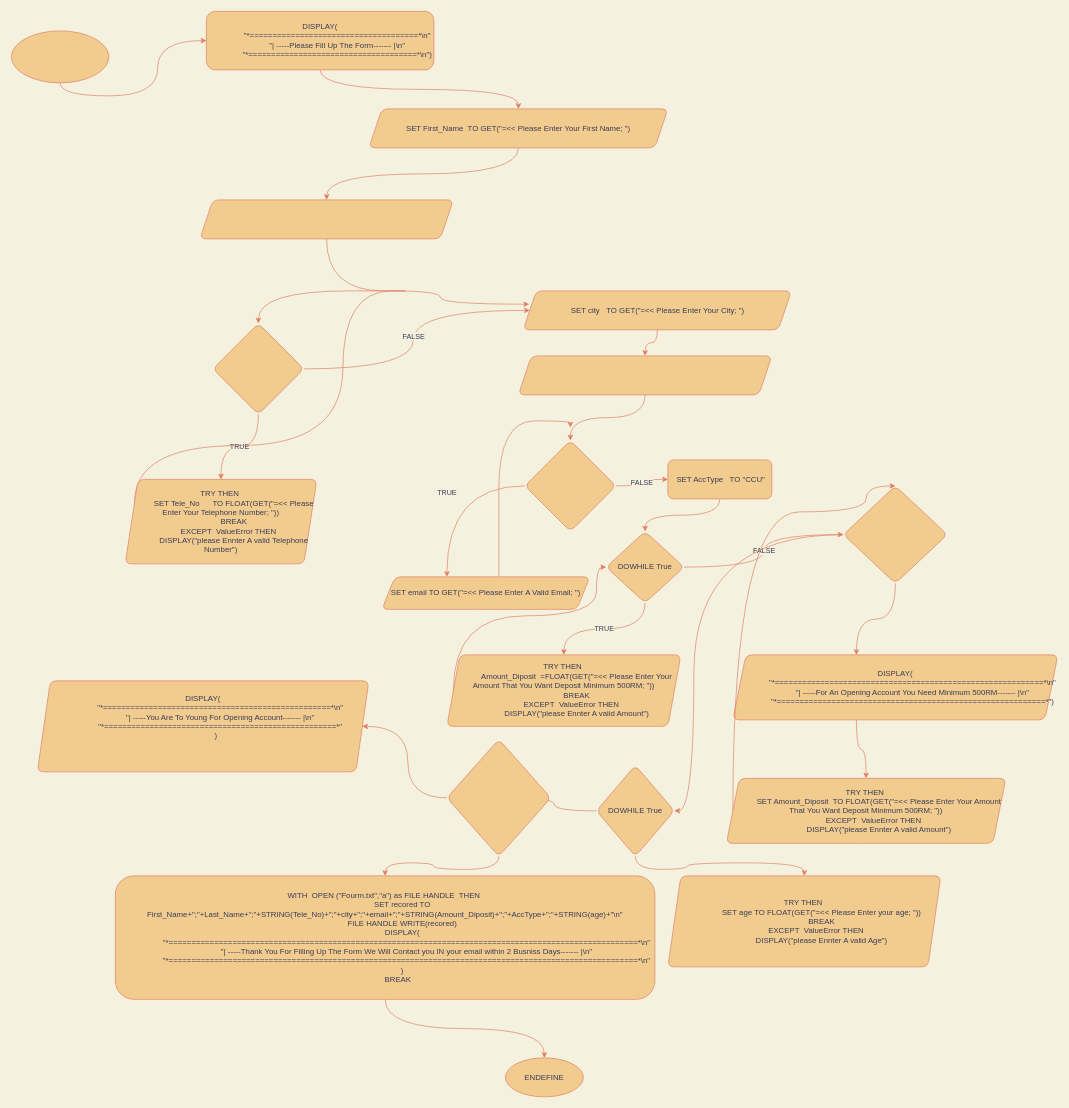
The diagram is 1069 pixels wide and 1108 high, and some of its shapes have lost their labels. Here are the shapes that lost their labels. From the top down, the box of each, then its label:
(11, 30, 109, 83): DEFINE COPenAcc()
(199, 199, 453, 239): SET Last_Name TO GET("=<< Please Enter Your Last Name; ")
(212, 323, 304, 414): DOWHILE True THEN
(518, 355, 772, 395): SET email TO GET("=<< Please Enter Your Emai; ")
(524, 440, 616, 531): DOWHILE "@" not IN email or ".com" not IN email THEN
(843, 485, 947, 583): while Amount_Diposit < 500
(446, 739, 551, 856): DOWHILE age >= 18 THEN
